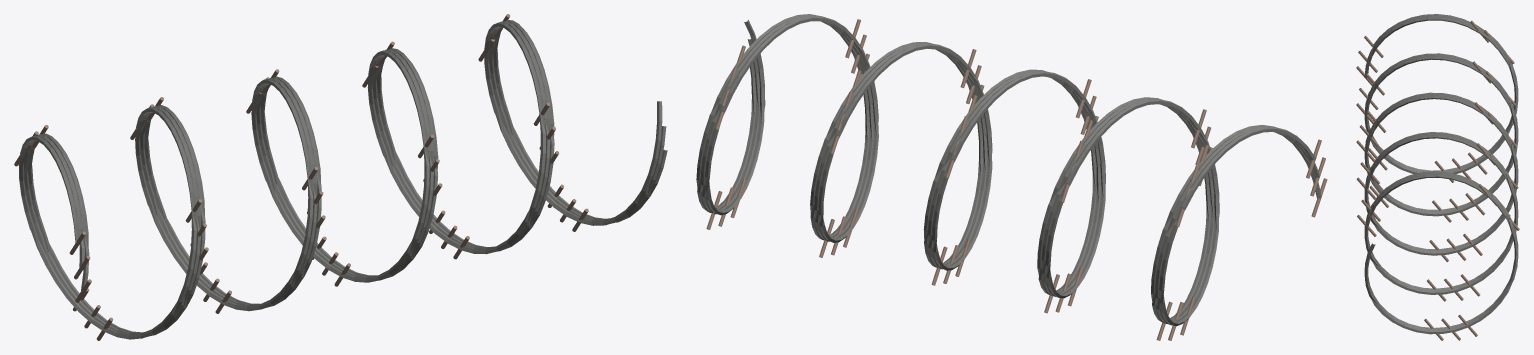
The model's file is stacheldrahtrolle_3m.glb.
3 views of the same model, side by side, from view 1: azimuth 30°, elevation 25°; view 2: azimuth 150°, elevation 25°; view 3: azimuth 270°, elevation 25° (orthographic). The views are drawn at different scales.
Parts seen in each view (by area): view 1: stacheldrahtrolle_3m_032, stacheldrahtrolle_3m_016, stacheldrahtrolle_3m_000; view 2: stacheldrahtrolle_3m_032, stacheldrahtrolle_3m_016, stacheldrahtrolle_3m_000; view 3: stacheldrahtrolle_3m_000, stacheldrahtrolle_3m_016, stacheldrahtrolle_3m_032.
Part boxes in pixels (x1,y1,x2,y2): stacheldrahtrolle_3m_032: (18, 22, 662, 339); stacheldrahtrolle_3m_016: (23, 21, 666, 337); stacheldrahtrolle_3m_000: (27, 20, 667, 335); stacheldrahtrolle_3m_032: (705, 16, 1316, 326); stacheldrahtrolle_3m_016: (700, 15, 1319, 324); stacheldrahtrolle_3m_000: (696, 14, 1321, 323); stacheldrahtrolle_3m_000: (1364, 17, 1518, 334); stacheldrahtrolle_3m_016: (1364, 15, 1518, 330); stacheldrahtrolle_3m_032: (1364, 14, 1518, 329).
Bounding box in the file's own units: 2.92 × 1.03 × 1.02.
